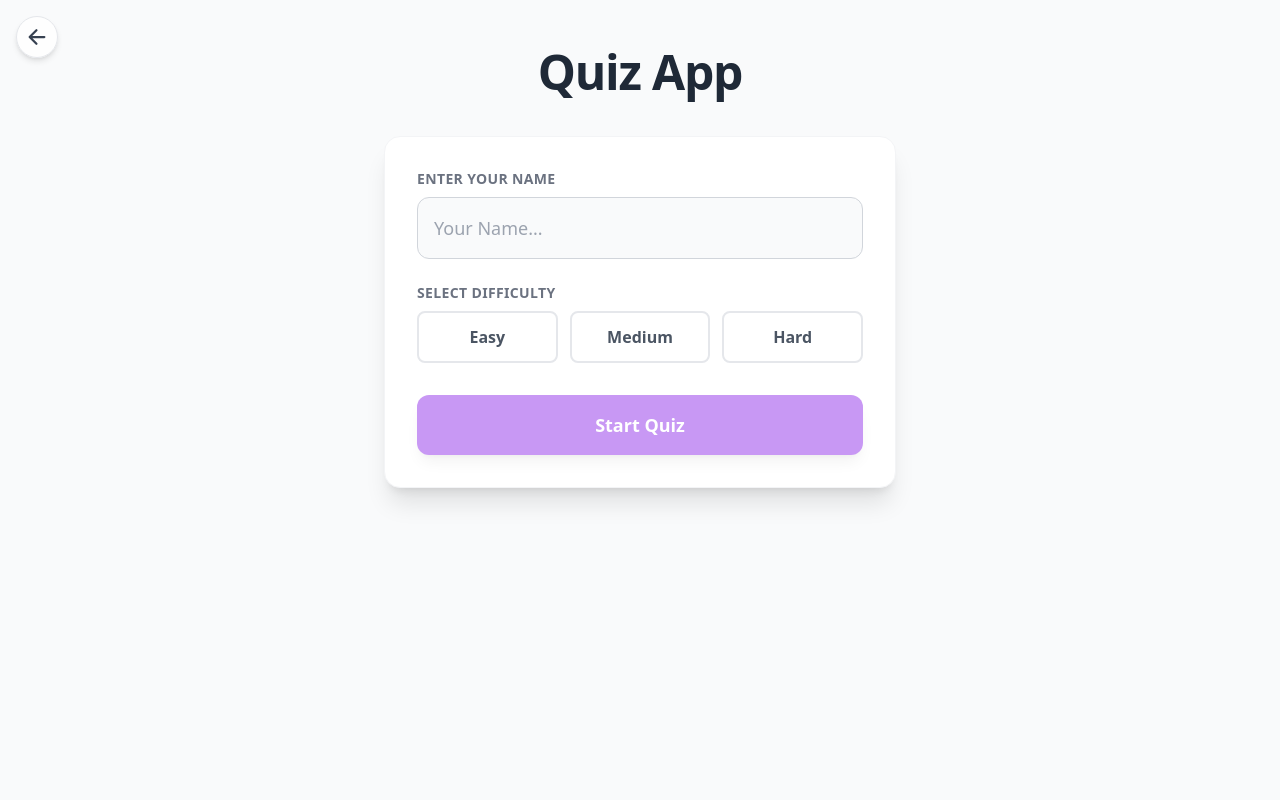
Test case: Quiz Component Integration › shows results screen after finishing quiz
Type "TestUser" into the field with placeholder "Your Name..." at {"x": 640, "y": 228}, box [417,197,863,259]
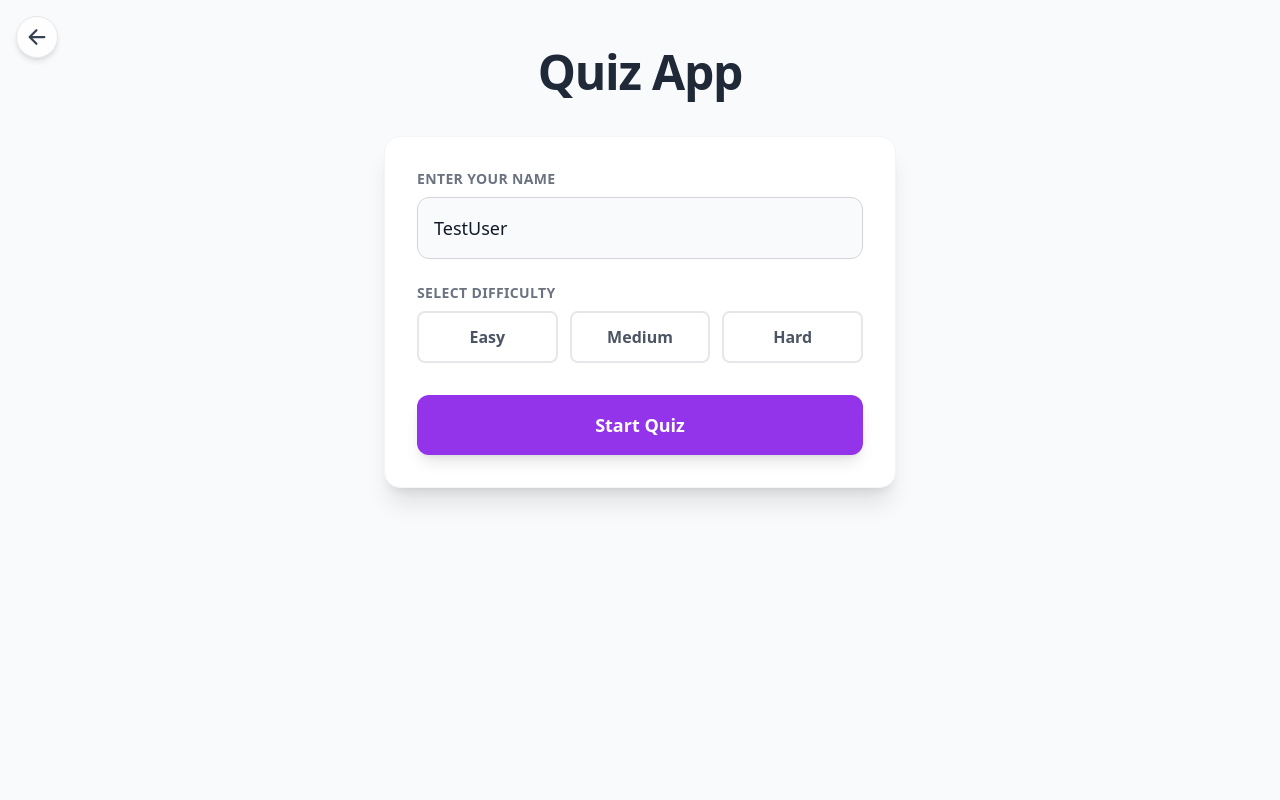
Click the button "Start Quiz" at {"x": 640, "y": 425}, box [417,395,863,455]
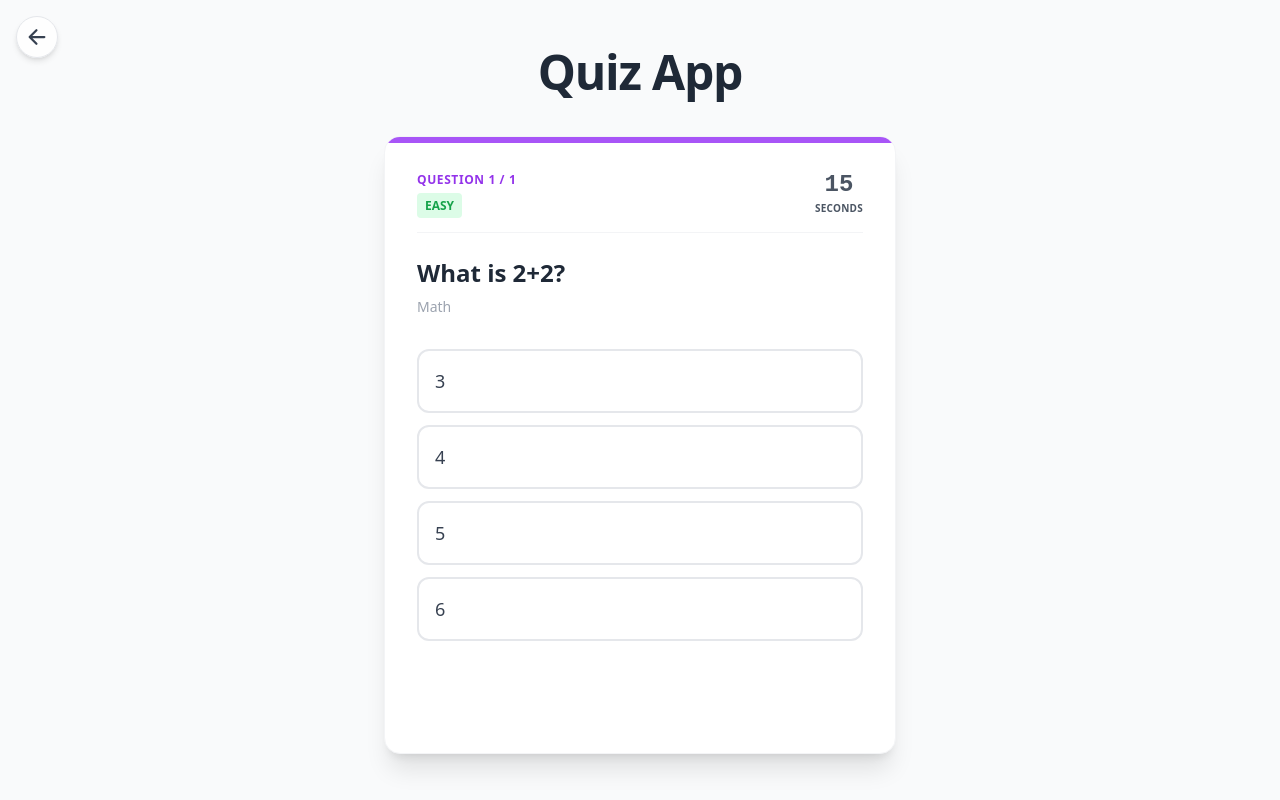
Result: the heading "What is 2+2?" is shown at [417,256,565,289]
Click the button "4" at {"x": 440, "y": 457}, box [417,425,863,489]
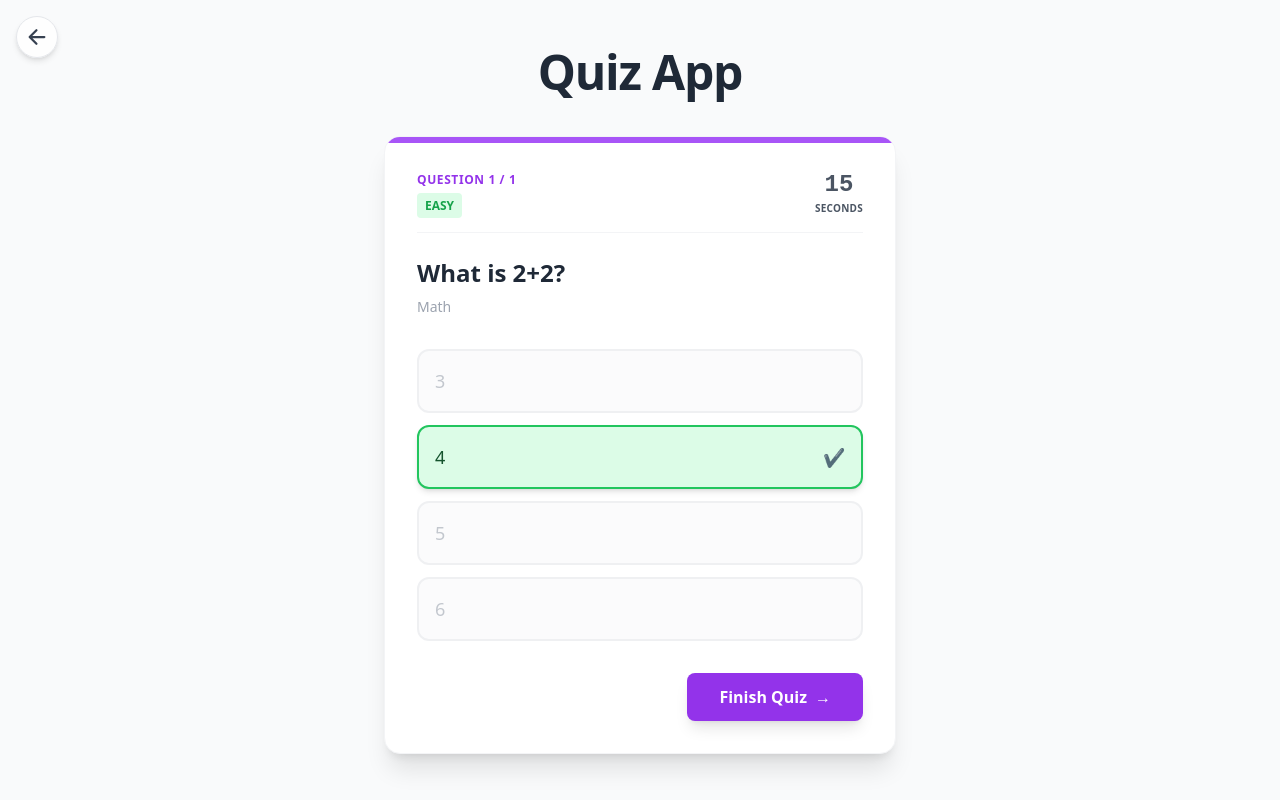
// Click Next/Finish
Click the button "Finish Quiz →" at {"x": 775, "y": 697}, box [687,673,863,721]
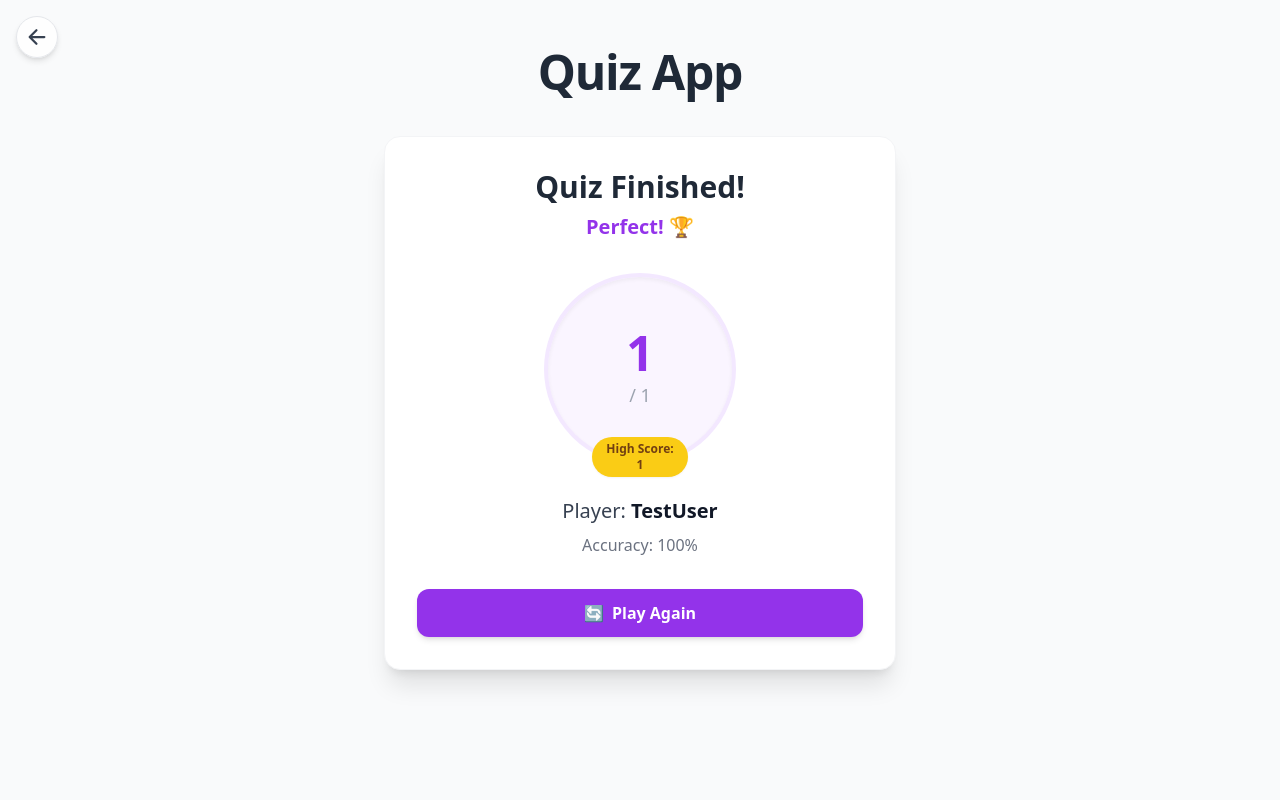
Result: the text "/ 1" is shown at [629,381,651,409]
Result: the heading "Quiz Finished!" is shown at [535,169,745,205]
Result: the text "1" is shown at [626,329,654,377]
